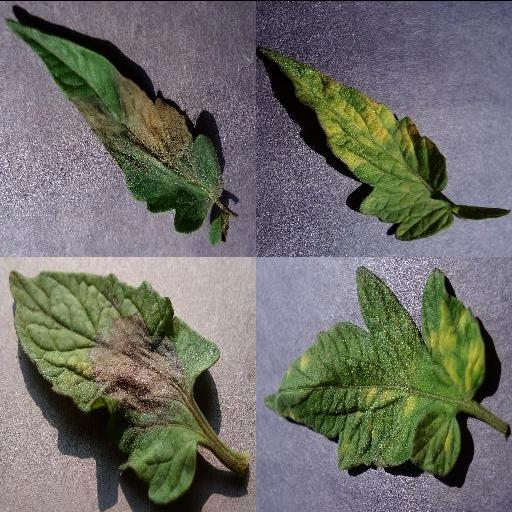Late Blight: (6, 268, 222, 504), (3, 17, 223, 231)
Leaf Mold: (261, 266, 487, 477), (258, 44, 450, 238)
